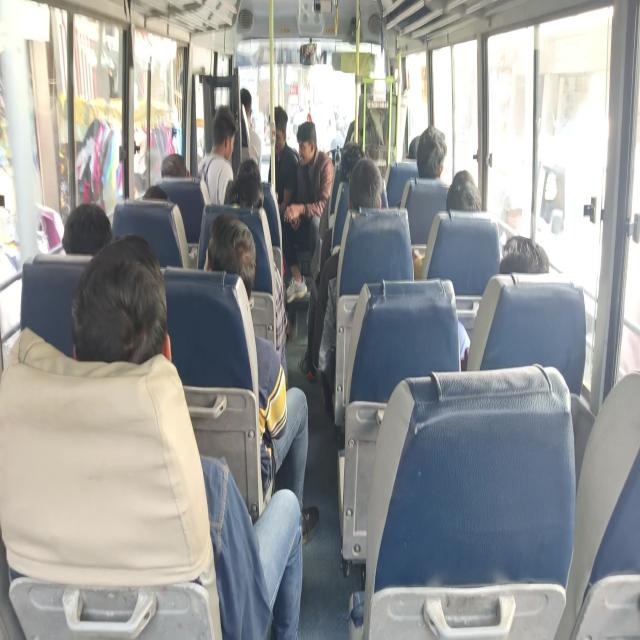person: (93, 247, 171, 363), (502, 221, 560, 299), (205, 218, 269, 283), (66, 202, 120, 254), (158, 148, 200, 194), (423, 130, 457, 179), (230, 170, 262, 214), (449, 177, 483, 217), (338, 144, 368, 188), (140, 180, 171, 222), (211, 114, 236, 162), (356, 174, 382, 218), (232, 74, 254, 120), (269, 108, 293, 148), (298, 127, 317, 170)
